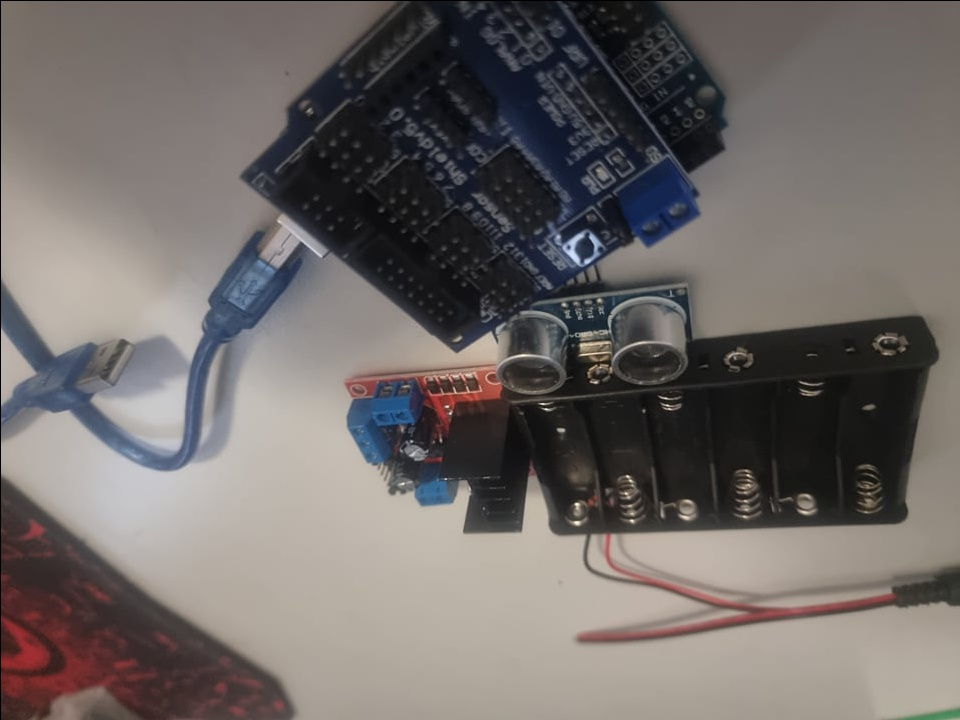5V EXPANSION: (238, 8, 693, 360)
BATTERY BOX: (509, 324, 941, 540)
MOTOR: (340, 364, 536, 535)
SENSOR: (496, 287, 687, 395)
